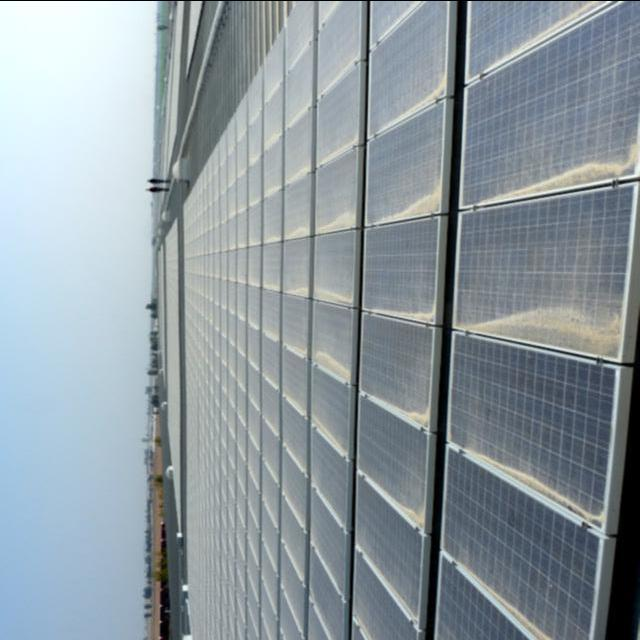soiled: (435, 0, 640, 639), (351, 0, 490, 639), (304, 0, 389, 639), (200, 131, 313, 383)
